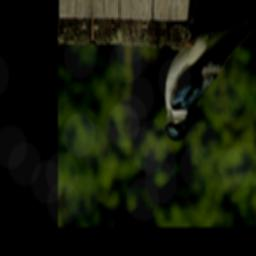Swallow: (163, 2, 256, 142)
